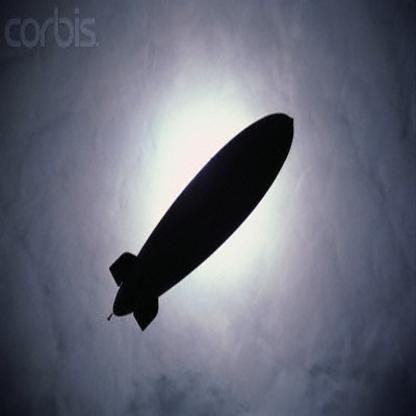Airship: (100, 108, 299, 337)
